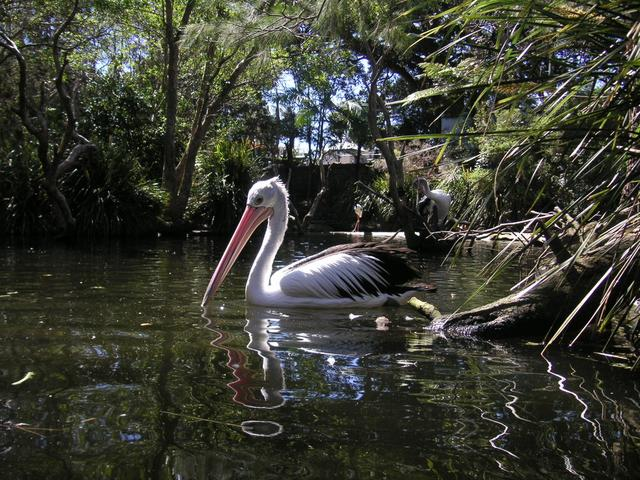bird: (187, 145, 431, 319)
